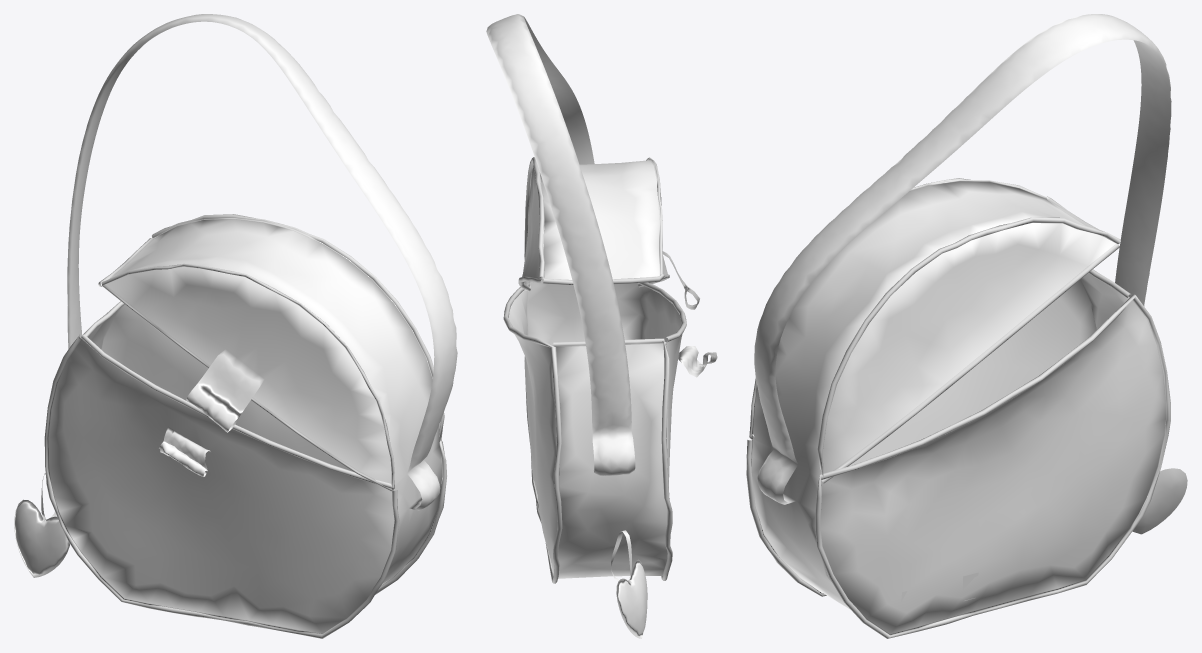
Rendered from femaleSumochka.glb.
3 views of the same model, side by side, from view 1: azimuth 30°, elevation 25°; view 2: azimuth 150°, elevation 25°; view 3: azimuth 270°, elevation 25° (orthographic). The views are drawn at different scales.
Parts seen in each view (by area): view 1: femaleSumochka; view 2: femaleSumochka; view 3: femaleSumochka.
Boxes of the visible parts, box(x1,y1,x2,y2) form: femaleSumochka: box(14, 14, 457, 638); femaleSumochka: box(486, 14, 717, 638); femaleSumochka: box(746, 14, 1187, 638).
Bounding box in the file's own units: 1.81 × 3.45 × 2.32.
Materials: 1 (1 with a texture image).
